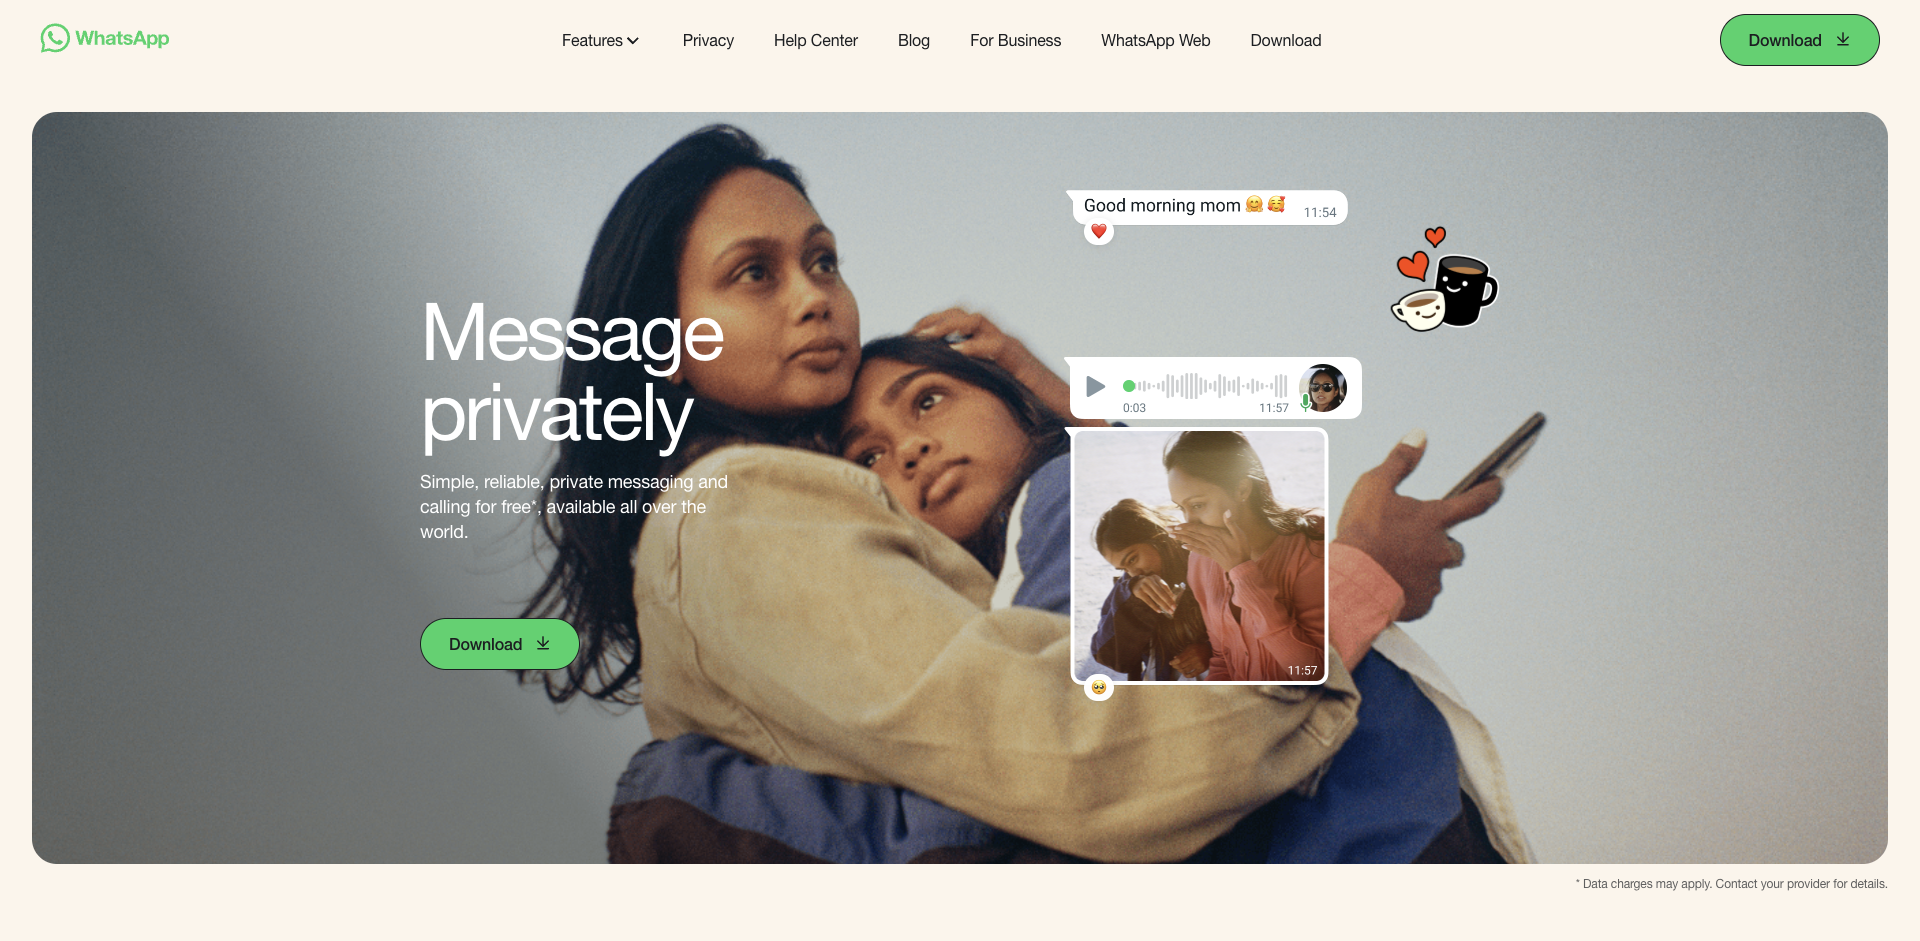button: (556, 28, 643, 51)
link: (1719, 13, 1880, 66), (420, 618, 580, 669), (1101, 29, 1211, 51), (40, 38, 170, 56), (970, 29, 1062, 51), (774, 29, 858, 51), (1250, 29, 1321, 51), (683, 29, 733, 51), (898, 29, 931, 51)
